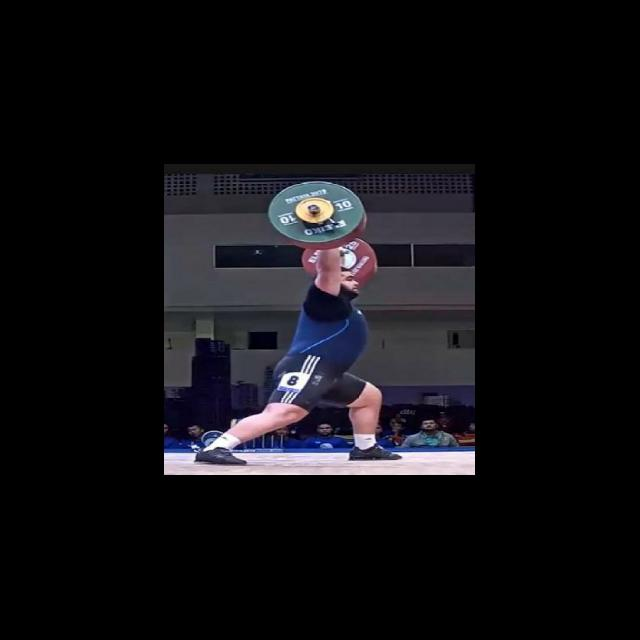barbell: (267, 180, 366, 249)
